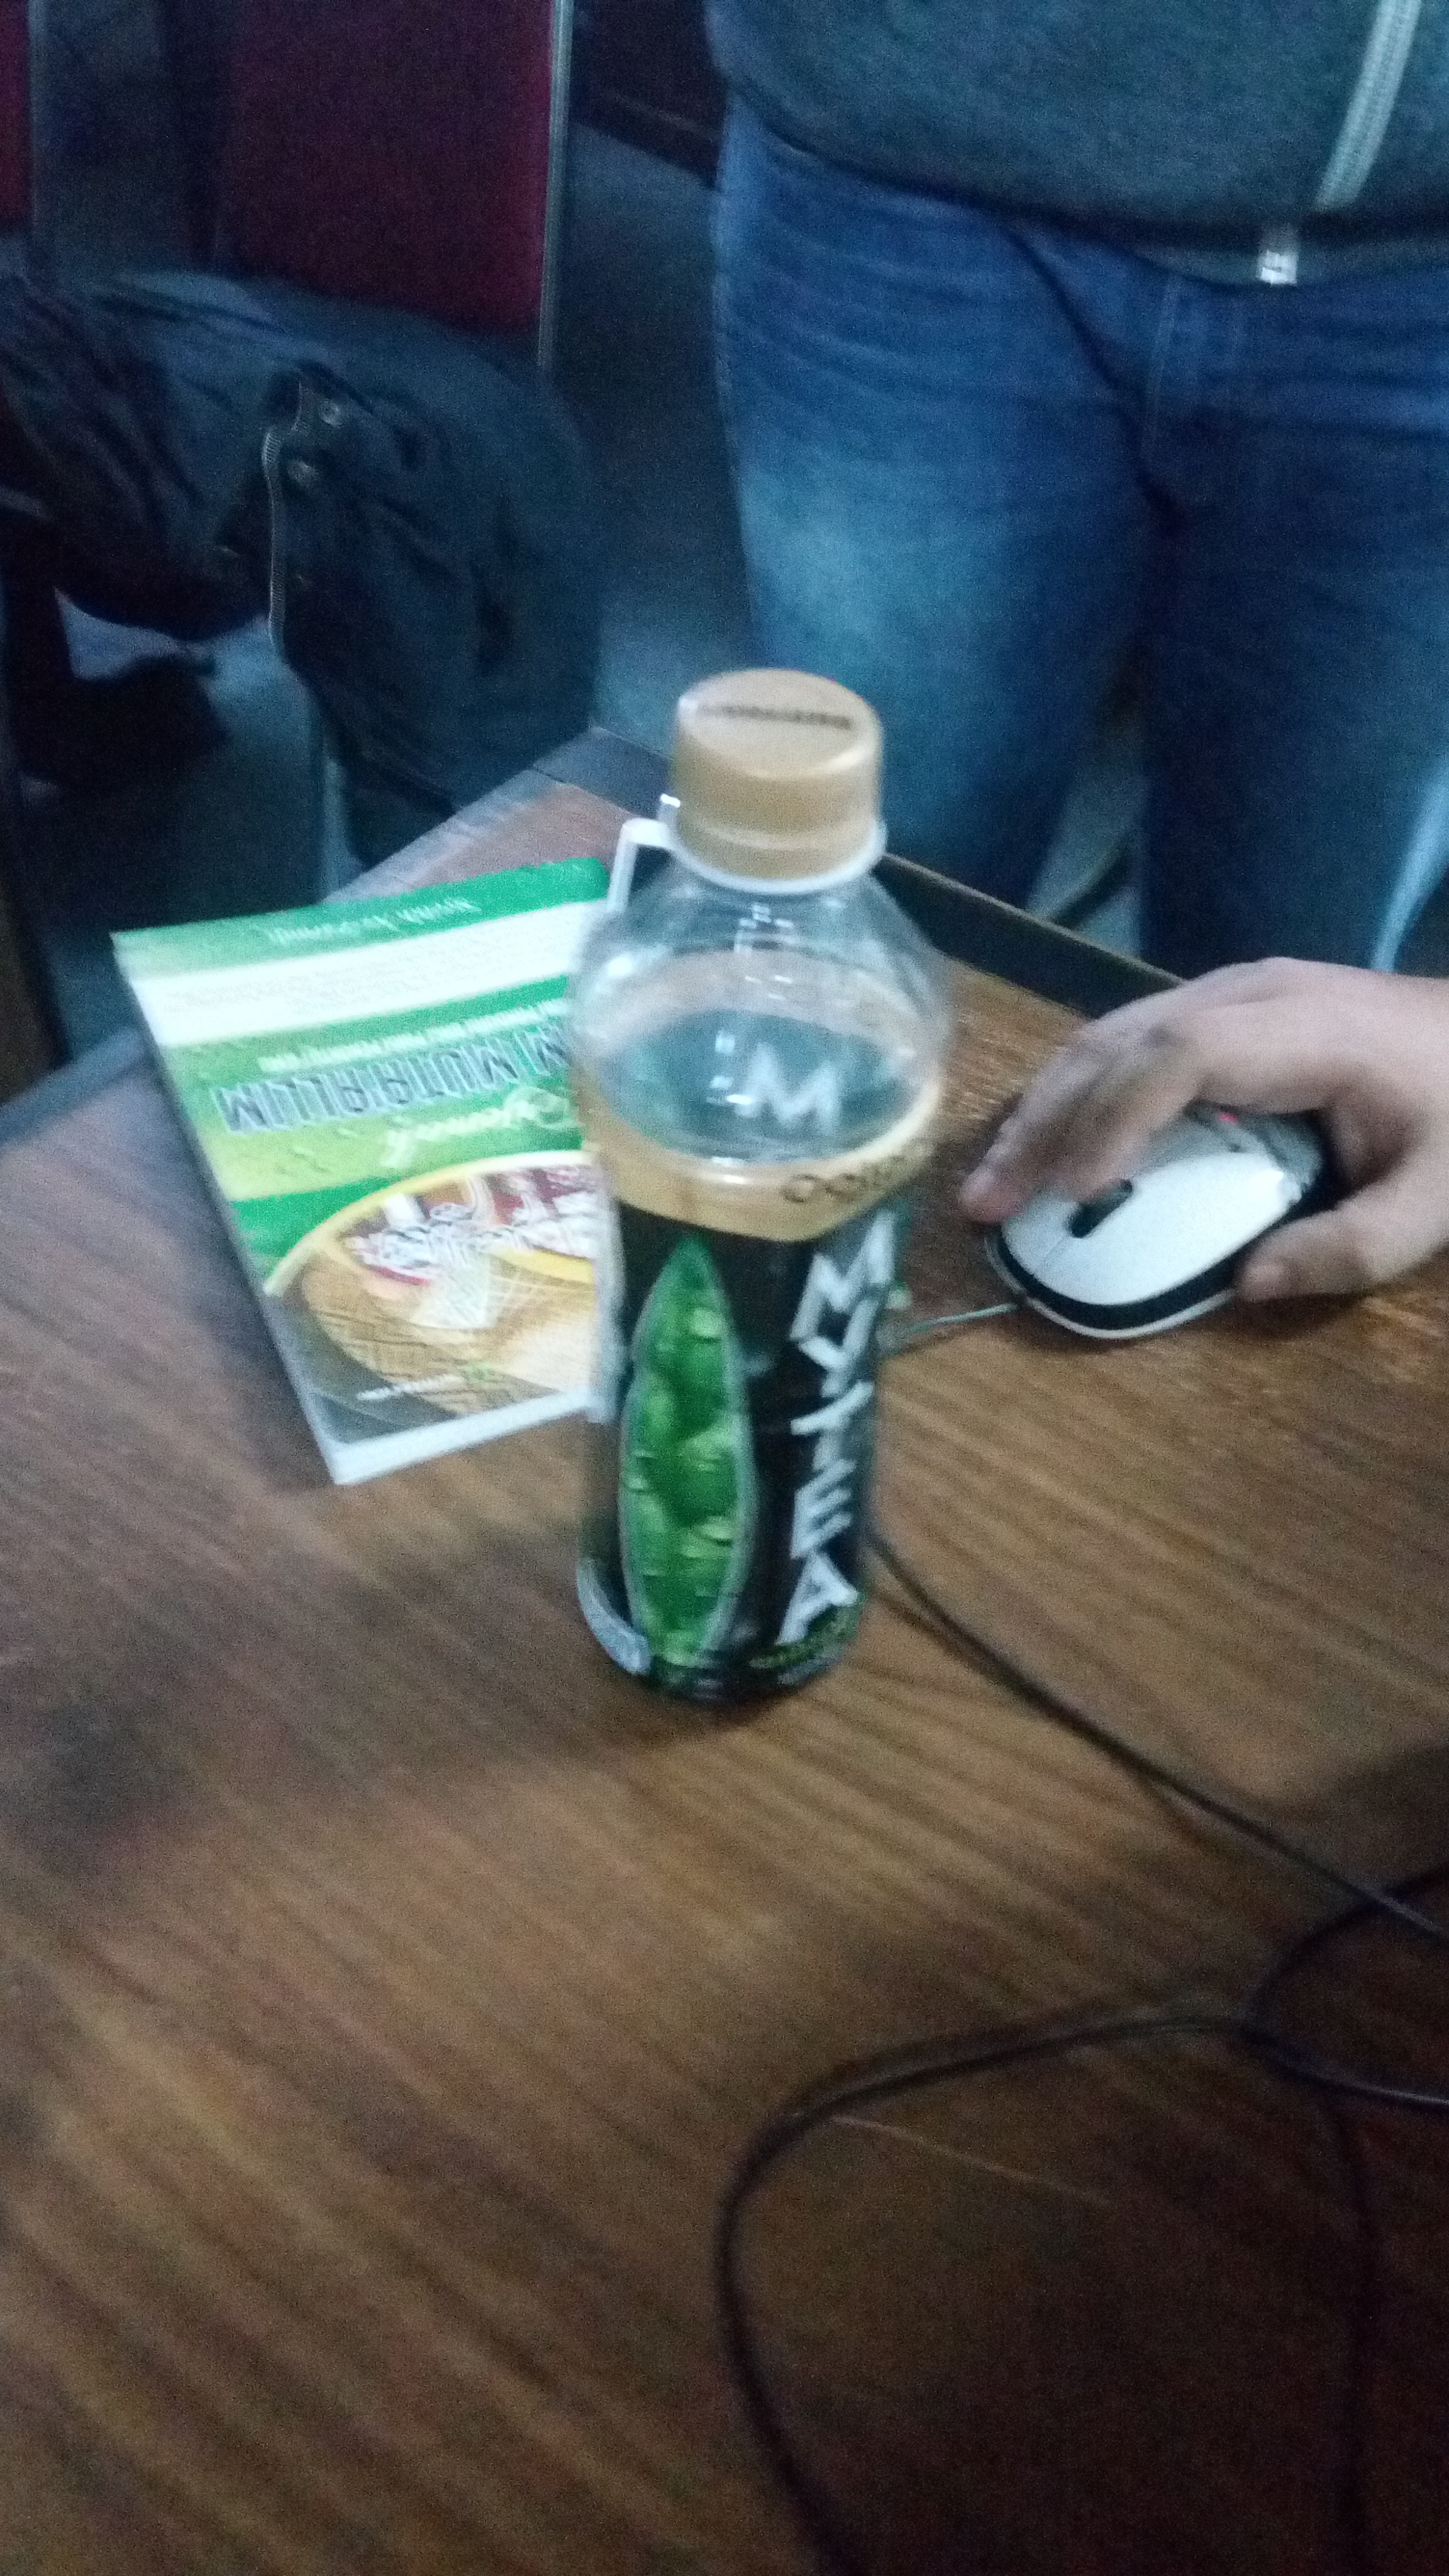botol: (584, 671, 939, 1700), (584, 694, 939, 1700)
